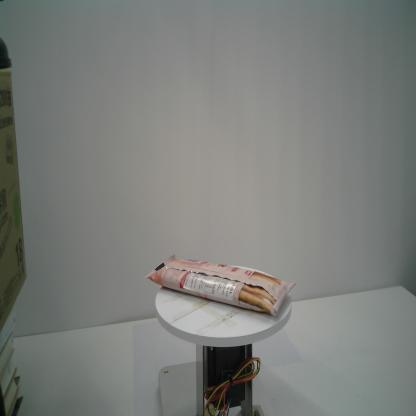Dessert: (143, 253, 296, 317)
